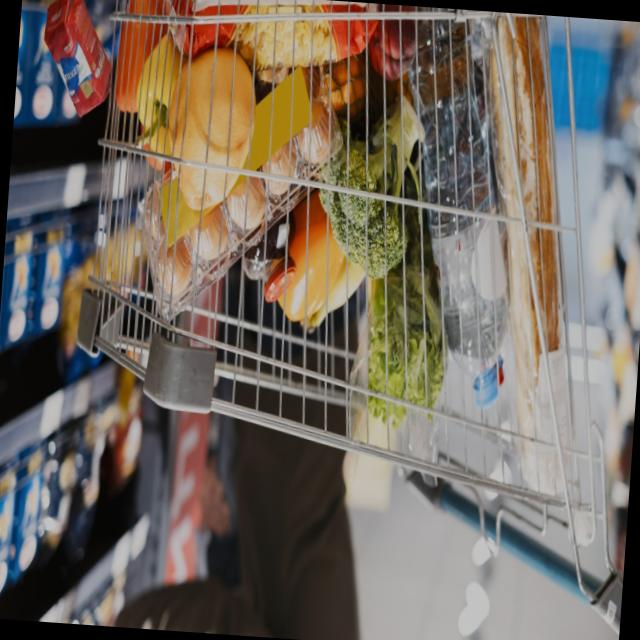mate bag: (36, 0, 117, 114)
